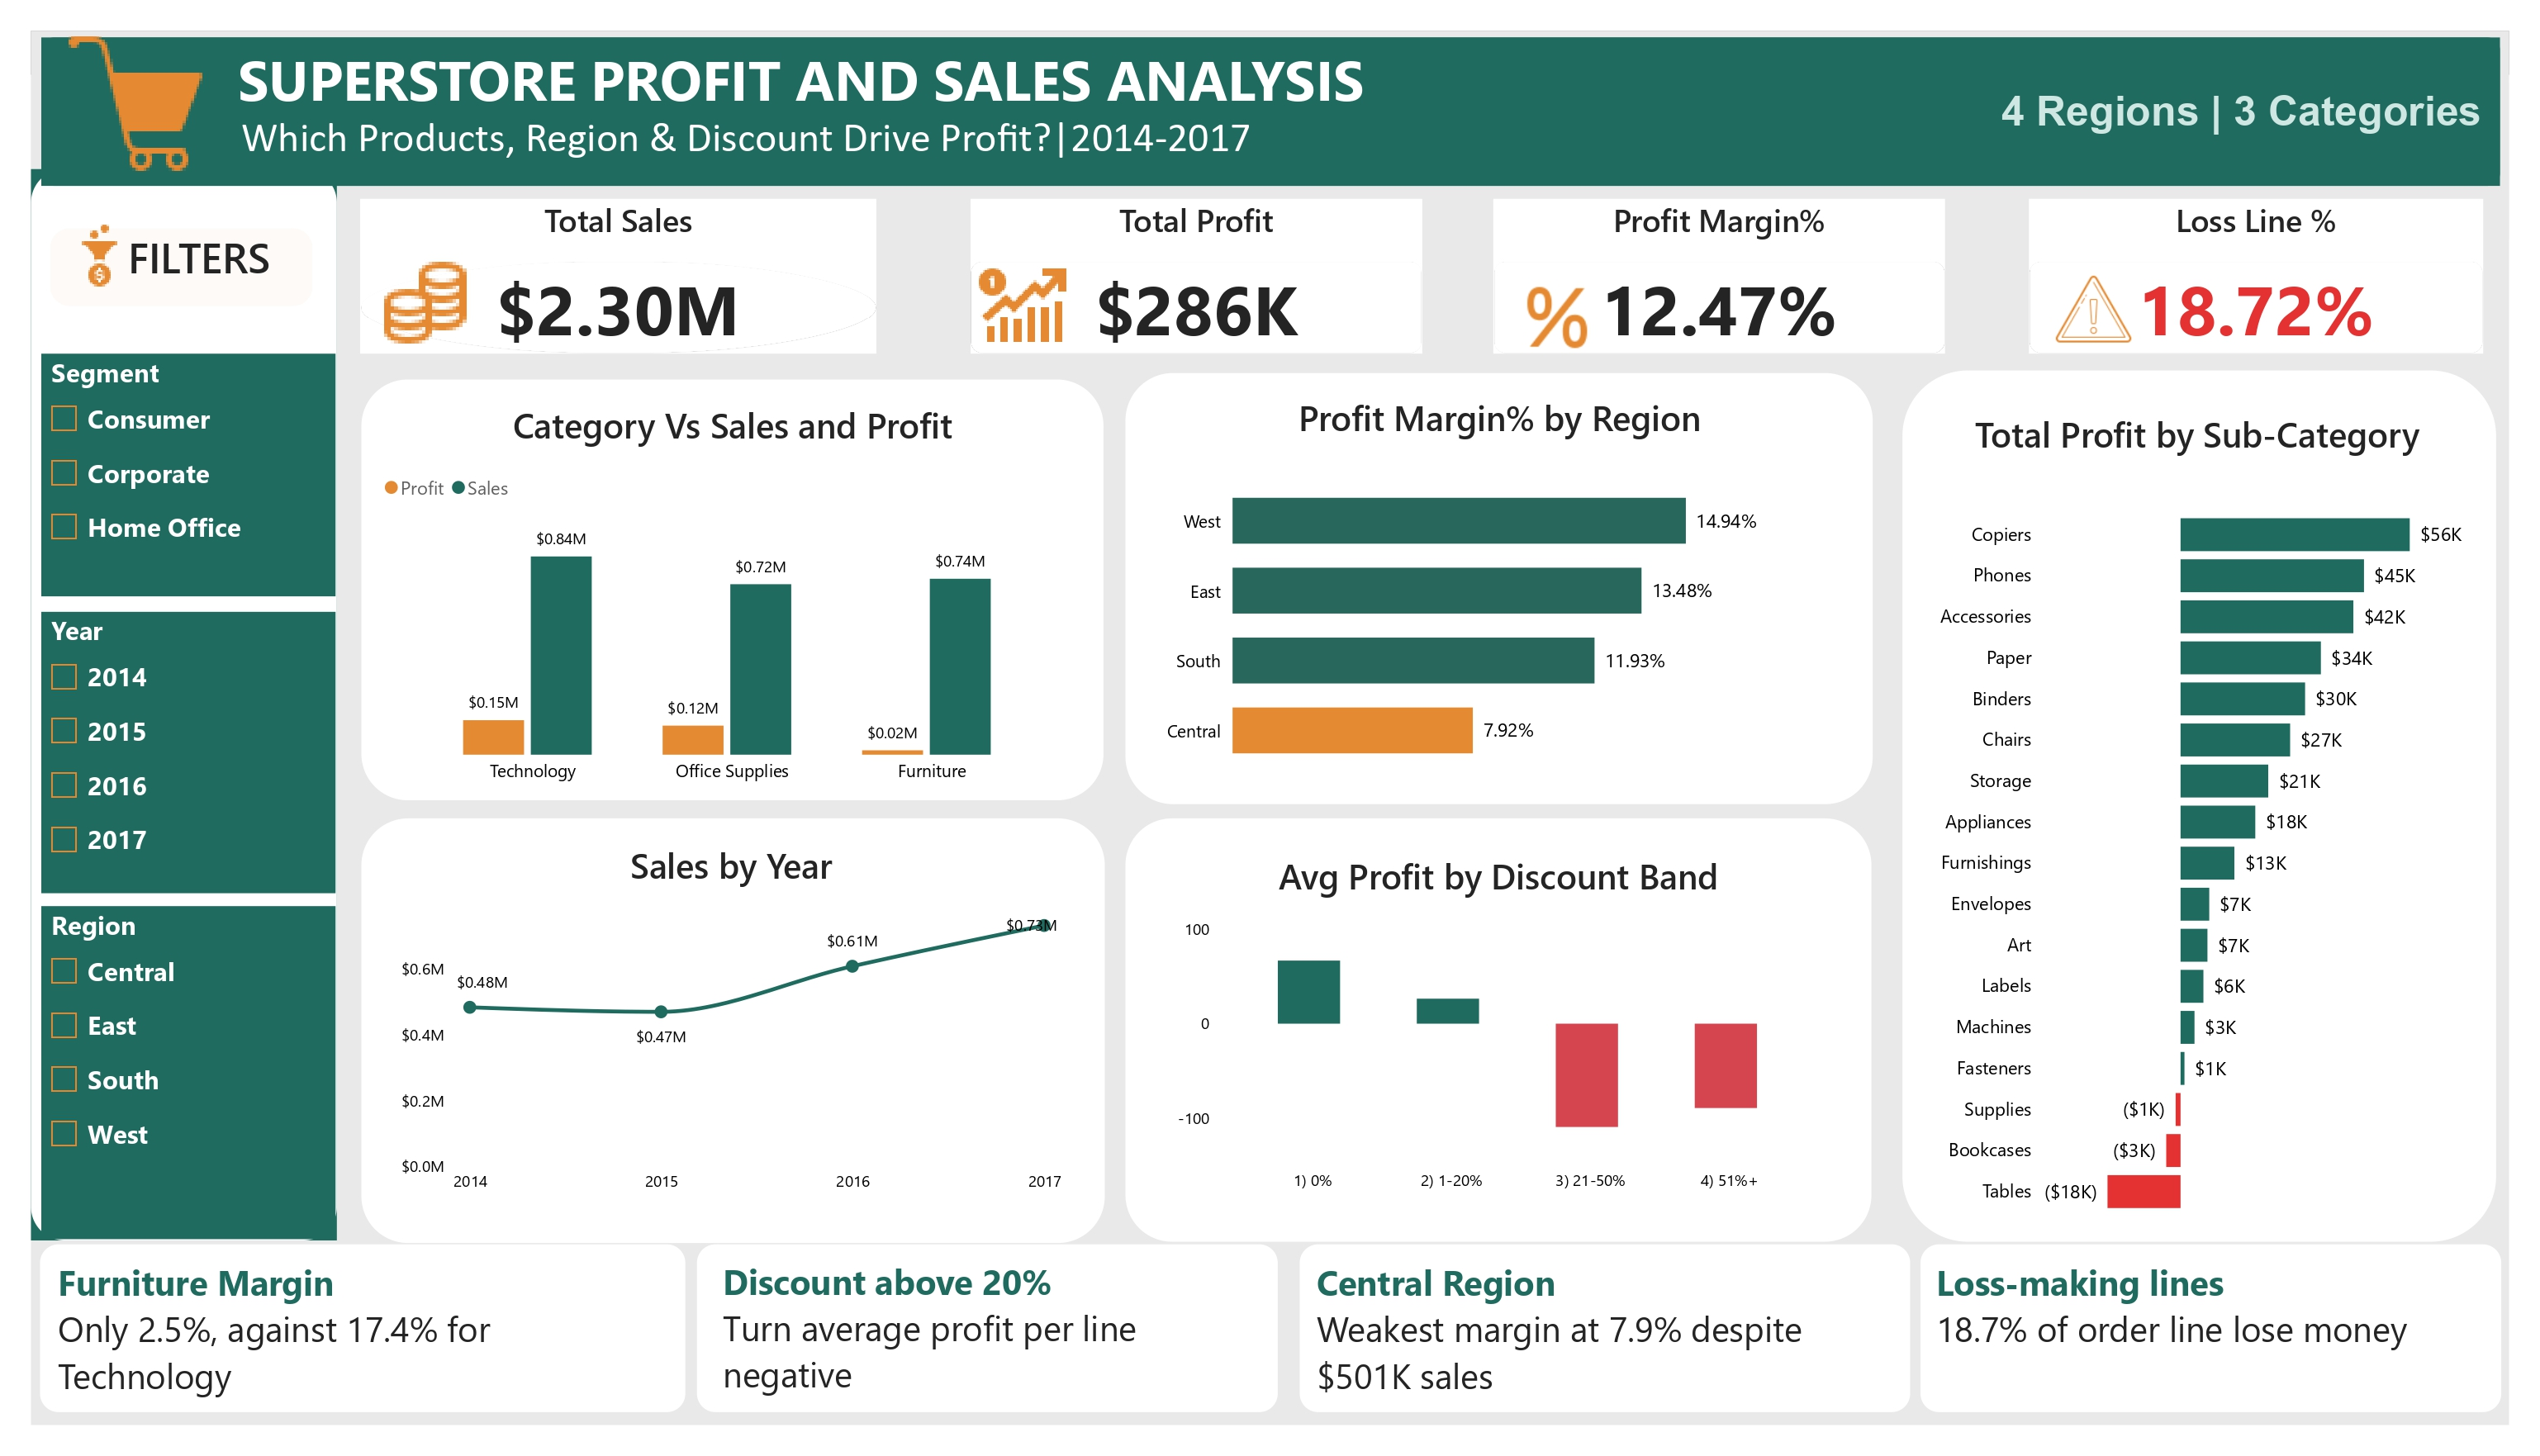

What the dashboard file says about the page in this screenshot:
{"tool":"powerbi","page":{"name":"Page 1","canvas":[1920,1080],"ordinal":0},"visuals":[{"type":"group","id":"g1","title":"Group 1","box":[0,106.7,236.7,830],"z":0,"group":"g2"},{"type":"group","id":"g2","title":"Group 3","box":[0,106.7,236.7,830],"z":0},{"type":"shape","box":[1450,263.3,460,675],"z":0,"group":"g8"},{"type":"shape","box":[847.5,265,578.8,333.9],"z":0,"group":"g10"},{"type":"group","id":"g3","title":"Group 1","box":[256,610,575.9,328.6],"z":0,"group":"g12"},{"type":"shape","box":[848,610,577.5,327.5],"z":0,"group":"g9"},{"type":"shape","box":[6.7,940,499.9,130],"z":0,"group":"g4"},{"type":"group","id":"g4","title":"Group 1","box":[6.7,940,499.9,130],"z":0,"group":"g13"},{"type":"shape","box":[516.3,940,450,130],"z":0,"group":"g5"},{"type":"group","id":"g5","title":"Group 1","box":[516.3,940,450,130],"z":0,"group":"g15"},{"type":"group","id":"g6","title":"Group 1","box":[982.8,940,473.3,130],"z":0,"group":"g16"},{"type":"shape","box":[982.8,940,473.3,130],"z":0,"group":"g6"},{"type":"shape","box":[1463.8,940,450,130],"z":0,"group":"g7"},{"type":"group","id":"g7","title":"Group 1","box":[1463.8,940,450,130],"z":0,"group":"g17"},{"type":"shape","box":[0,106.7,236.7,830],"z":500,"group":"g1"},{"type":"shape","box":[256,610,575.9,328.6],"z":500,"group":"g3"},{"type":"group","id":"g8","title":"Group 2","box":[1450,263.3,460,676.7],"z":1000},{"type":"shape","box":[256,270,575.2,326.2],"z":1000,"group":"g11"},{"type":"group","id":"g9","title":"Group 2","box":[848,610,578,328],"z":2000},{"type":"shape","box":[7.5,5,1905,115],"z":3000},{"type":"cardVisual","title":"Total Sales","fields":{"Data":["Measures (3).Total Sales"]},"box":[255,130,400,120],"z":4000},{"type":"lineChart","fields":{"Category":["Sample - Superstore.Order Date.Variation.Date Hierarchy.Year"],"Y":["Measures (3).Total Sales"]},"box":[270.7,614.2,543.2,306.6],"z":4000,"group":"g12"},{"type":"cardVisual","title":"Total Profit","fields":{"Data":["Measures (3).Total Profit"]},"box":[727.5,130,350,120],"z":5000},{"type":"clusteredColumnChart","title":"Category Vs Sales and Profit","fields":{"Category":["Sample - Superstore.Category"],"Y":["Measures (3).Total Profit","Measures (3).Total Sales"]},"box":[272.9,287.3,541.4,300.3],"z":5000,"group":"g11"},{"type":"clusteredBarChart","title":"Profit Margin% by Region","fields":{"Category":["Sample - Superstore.Region"],"Y":["Measures (3).Profit Margin%"]},"box":[874.8,281.5,526.2,303],"z":6000,"group":"g10"},{"type":"clusteredColumnChart","title":"Avg Profit by Discount Band","fields":{"Category":["Sample - Superstore.Discount Band"],"Y":["Measures (3).Avg Profit Per Line"]},"box":[872,622,530,297.5],"z":6000},{"type":"barChart","title":"Total Profit by Sub-Category","fields":{"Category":["Sample - Superstore.Sub-Category"],"Y":["Measures (3).Total Profit"]},"box":[1456.7,280,443.3,673.3],"z":7000},{"type":"textbox","box":[150,7.5,892.9,91.1],"z":8000},{"type":"slicer","fields":{"Values":["Sample - Superstore.Segment"]},"box":[8,250,228,188],"z":9000},{"type":"slicer","fields":{"Values":["Sample - Superstore.Order Date.Variation.Date Hierarchy.Year"]},"box":[8,450,228,218],"z":10000},{"type":"slicer","fields":{"Values":["Sample - Superstore.Region"]},"box":[8,678,228,258],"z":11000},{"type":"cardVisual","title":"Profit Margin%","fields":{"Data":["Measures (3).Profit Margin%"]},"box":[1132.5,130,350,120],"z":12000},{"type":"cardVisual","title":"Loss Line %","fields":{"Data":["Measures (3).Loss Line%"]},"box":[1547.5,130,352,120],"z":13000},{"type":"group","id":"g10","title":"Group 2","box":[847.5,265,577.5,332.5],"z":14000},{"type":"group","id":"g11","title":"Group 1","box":[256,270,576,326],"z":15000},{"type":"group","id":"g12","title":"Group 3","box":[256,610,576,328],"z":16000},{"type":"textbox","box":[107.5,62.5,892.9,91.1],"z":18000},{"type":"group","id":"g13","title":"Group 3","box":[6.7,940,499.9,130],"z":19000,"group":"g18"},{"type":"group","id":"g14","title":"Group 4","box":[516.3,940,450,130],"z":19000},{"type":"group","id":"g15","title":"Group 3","box":[516.3,940,450,130],"z":19000,"group":"g14"},{"type":"group","id":"g16","title":"Group 3","box":[982.8,940,473.3,130],"z":19000,"group":"g20"},{"type":"group","id":"g17","title":"Group 3","box":[1463.8,940,450,130],"z":19000,"group":"g19"},{"type":"group","id":"g18","title":"Group 4","box":[6.7,940,480,130],"z":20000},{"type":"textbox","box":[536.6,950,421.3,110],"z":20000,"group":"g14"},{"type":"textbox","box":[20.2,950.6,468,110],"z":20000,"group":"g18"},{"type":"textbox","box":[995.6,950.6,443.2,110],"z":20000,"group":"g20"},{"type":"textbox","box":[1476,950.6,421.3,110],"z":20000,"group":"g19"},{"type":"group","id":"g19","title":"Group 4","box":[1463.8,940,450,130],"z":21000},{"type":"group","id":"g20","title":"Group 4","box":[982.8,940,473.3,130],"z":22000},{"type":"textbox","box":[1526.7,6.7,393.3,90],"z":23000},{"type":"image","box":[247.5,167.5,115,85],"z":24000},{"type":"image","box":[1522.5,177.5,150,75],"z":25000},{"type":"image","box":[705,175,125,75],"z":26000},{"type":"image","box":[1132.5,190,100,62.5],"z":27000},{"type":"image","box":[7.5,0,150,107.5],"z":28000},{"type":"shape","box":[15,152.5,202.5,60],"z":29000},{"type":"textbox","box":[75,152.5,150,62.5],"z":30000},{"type":"image","box":[0,150,107.5,47.5],"z":30001}]}

Visuals, with their boxes on the page's 1920x1080 design canvas (x1, y1, x2, y2). These are canvas units, not pixel positions in the 2540x1456 screenshot, which may show the page scaled, cropped or inside an application window:
"Group 1" group: 0 107 237 937
"Group 3" group: 0 107 237 937
shape: 1450 263 1910 938
shape: 848 265 1426 599
"Group 1" group: 256 610 832 939
shape: 848 610 1426 938
shape: 7 940 507 1070
"Group 1" group: 7 940 507 1070
shape: 516 940 966 1070
"Group 1" group: 516 940 966 1070
"Group 1" group: 983 940 1456 1070
shape: 983 940 1456 1070
shape: 1464 940 1914 1070
"Group 1" group: 1464 940 1914 1070
shape: 0 107 237 937
shape: 256 610 832 939
"Group 2" group: 1450 263 1910 940
shape: 256 270 831 596
"Group 2" group: 848 610 1426 938
shape: 8 5 1912 120
"Total Sales" cardVisual: 255 130 655 250
lineChart - Sample - Superstore.Order Date.Variation.Date Hierarchy.Year x Measures (3).Total Sales: 271 614 814 921
"Total Profit" cardVisual: 728 130 1078 250
"Category Vs Sales and Profit" clusteredColumnChart: 273 287 814 588
"Profit Margin% by Region" clusteredBarChart: 875 282 1401 584
"Avg Profit by Discount Band" clusteredColumnChart: 872 622 1402 920
"Total Profit by Sub-Category" barChart: 1457 280 1900 953
textbox: 150 8 1043 99
slicer - Sample - Superstore.Segment: 8 250 236 438
slicer - Sample - Superstore.Order Date.Variation.Date Hierarchy.Year: 8 450 236 668
slicer - Sample - Superstore.Region: 8 678 236 936
"Profit Margin%" cardVisual: 1132 130 1482 250
"Loss Line %" cardVisual: 1548 130 1900 250
"Group 2" group: 848 265 1425 598
"Group 1" group: 256 270 832 596
"Group 3" group: 256 610 832 938
textbox: 108 62 1000 154
"Group 3" group: 7 940 507 1070
"Group 4" group: 516 940 966 1070
"Group 3" group: 516 940 966 1070
"Group 3" group: 983 940 1456 1070
"Group 3" group: 1464 940 1914 1070
"Group 4" group: 7 940 487 1070
textbox: 537 950 958 1060
textbox: 20 951 488 1061
textbox: 996 951 1439 1061
textbox: 1476 951 1897 1061
"Group 4" group: 1464 940 1914 1070
"Group 4" group: 983 940 1456 1070
textbox: 1527 7 1920 97
image: 248 168 362 252
image: 1522 178 1672 252
image: 705 175 830 250
image: 1132 190 1232 252
image: 8 0 158 108
shape: 15 152 218 212
textbox: 75 152 225 215
image: 0 150 108 198
